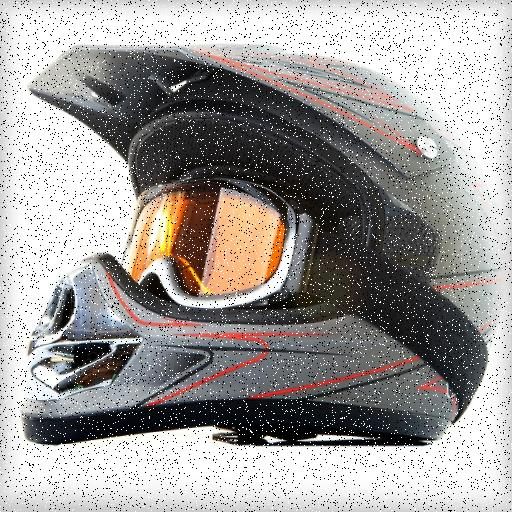Helmet: (28, 22, 490, 479)
